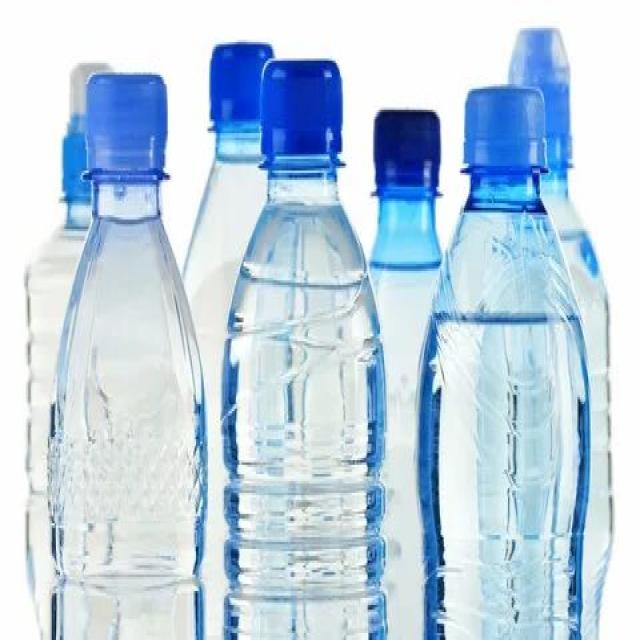blue: (414, 167, 590, 640), (220, 162, 386, 640), (53, 170, 203, 640)
